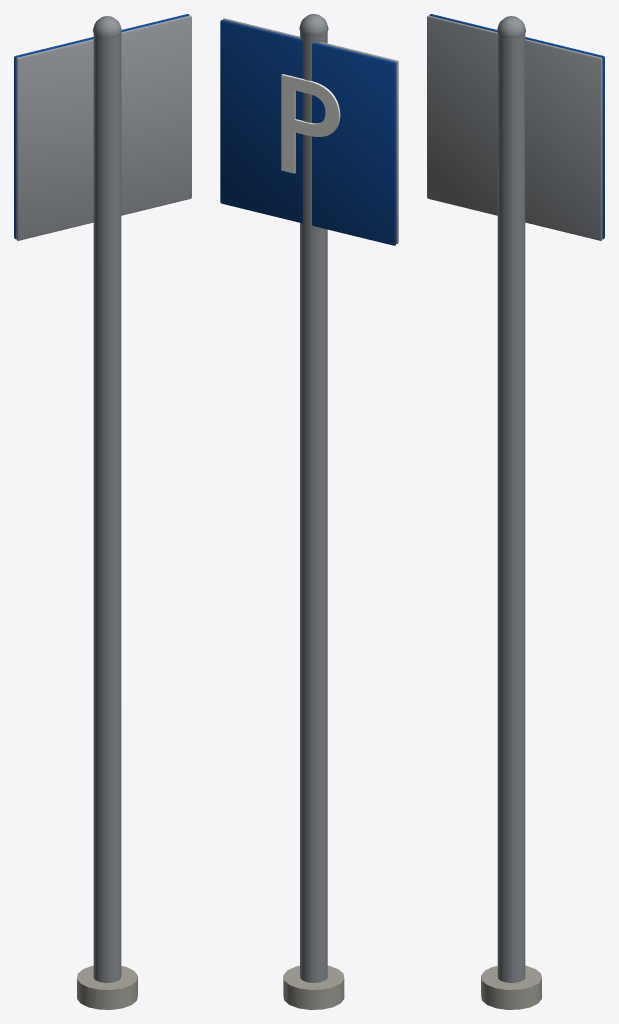
Rendered from Sign_Parking.fbx.
The picture shows the model from 3 angles, left to right: view 1: azimuth 30°, elevation 25°; view 2: azimuth 150°, elevation 25°; view 3: azimuth 330°, elevation 25°; orthographic projection.
Visible parts, largest first — view 1: Sign_Parking_Mesh; view 2: Sign_Parking_Mesh; view 3: Sign_Parking_Mesh.
Part boxes in pixels (x1,y1,x2,y2): Sign_Parking_Mesh: (14,14,191,1009); Sign_Parking_Mesh: (220,14,398,1009); Sign_Parking_Mesh: (427,14,604,1009).
Size of the model in its own units: 0.55 by 2.94 by 0.1672.
